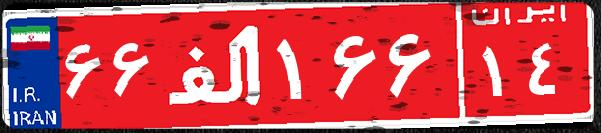1: (273, 28, 330, 110), (475, 38, 525, 113)
4: (525, 38, 570, 115)
6: (385, 28, 445, 110), (330, 28, 385, 110), (57, 26, 110, 107), (110, 28, 158, 105)
الف: (158, 15, 273, 115)
